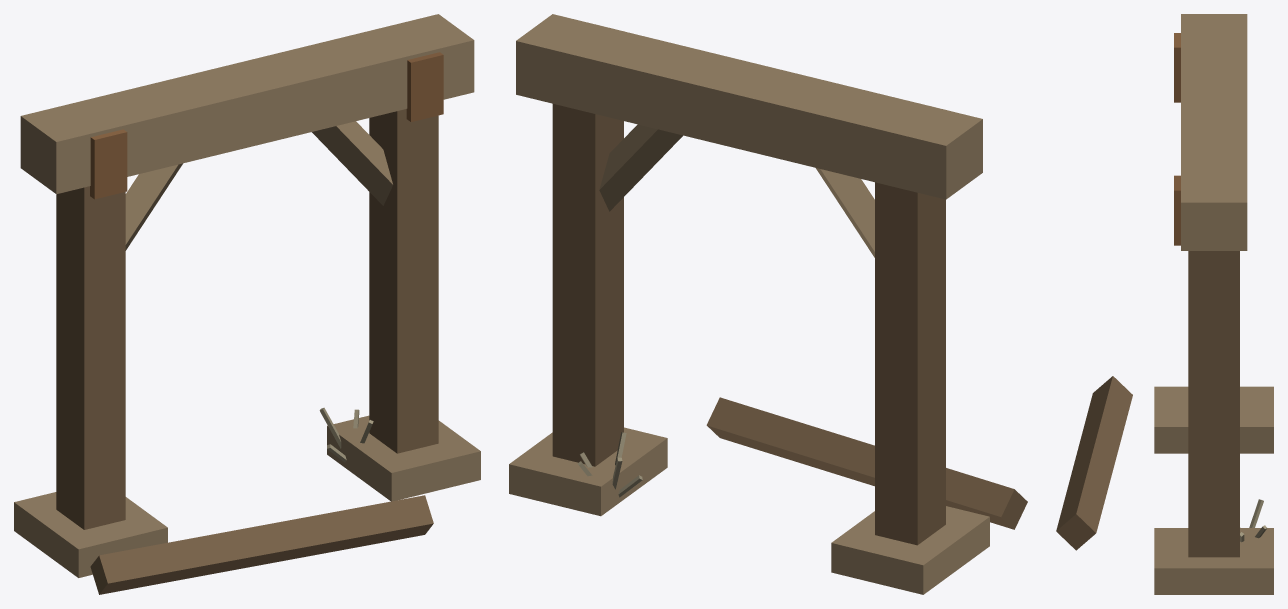
The model's file is timber-shoring.glb.
3 renders of one model, left to right at view 1: azimuth 30°, elevation 25°; view 2: azimuth 150°, elevation 25°; view 3: azimuth 270°, elevation 25°, orthographic. The views are drawn at different scales.
Visible parts, largest first — view 1: timber-shoring; view 2: timber-shoring; view 3: timber-shoring.
Boxes of the visible parts, <box> form: timber-shoring: <box>14,14,480,594</box>; timber-shoring: <box>509,14,1027,594</box>; timber-shoring: <box>1056,14,1273,594</box>.
Bounding box in the file's own units: 2.43 × 2.39 × 1.18.
